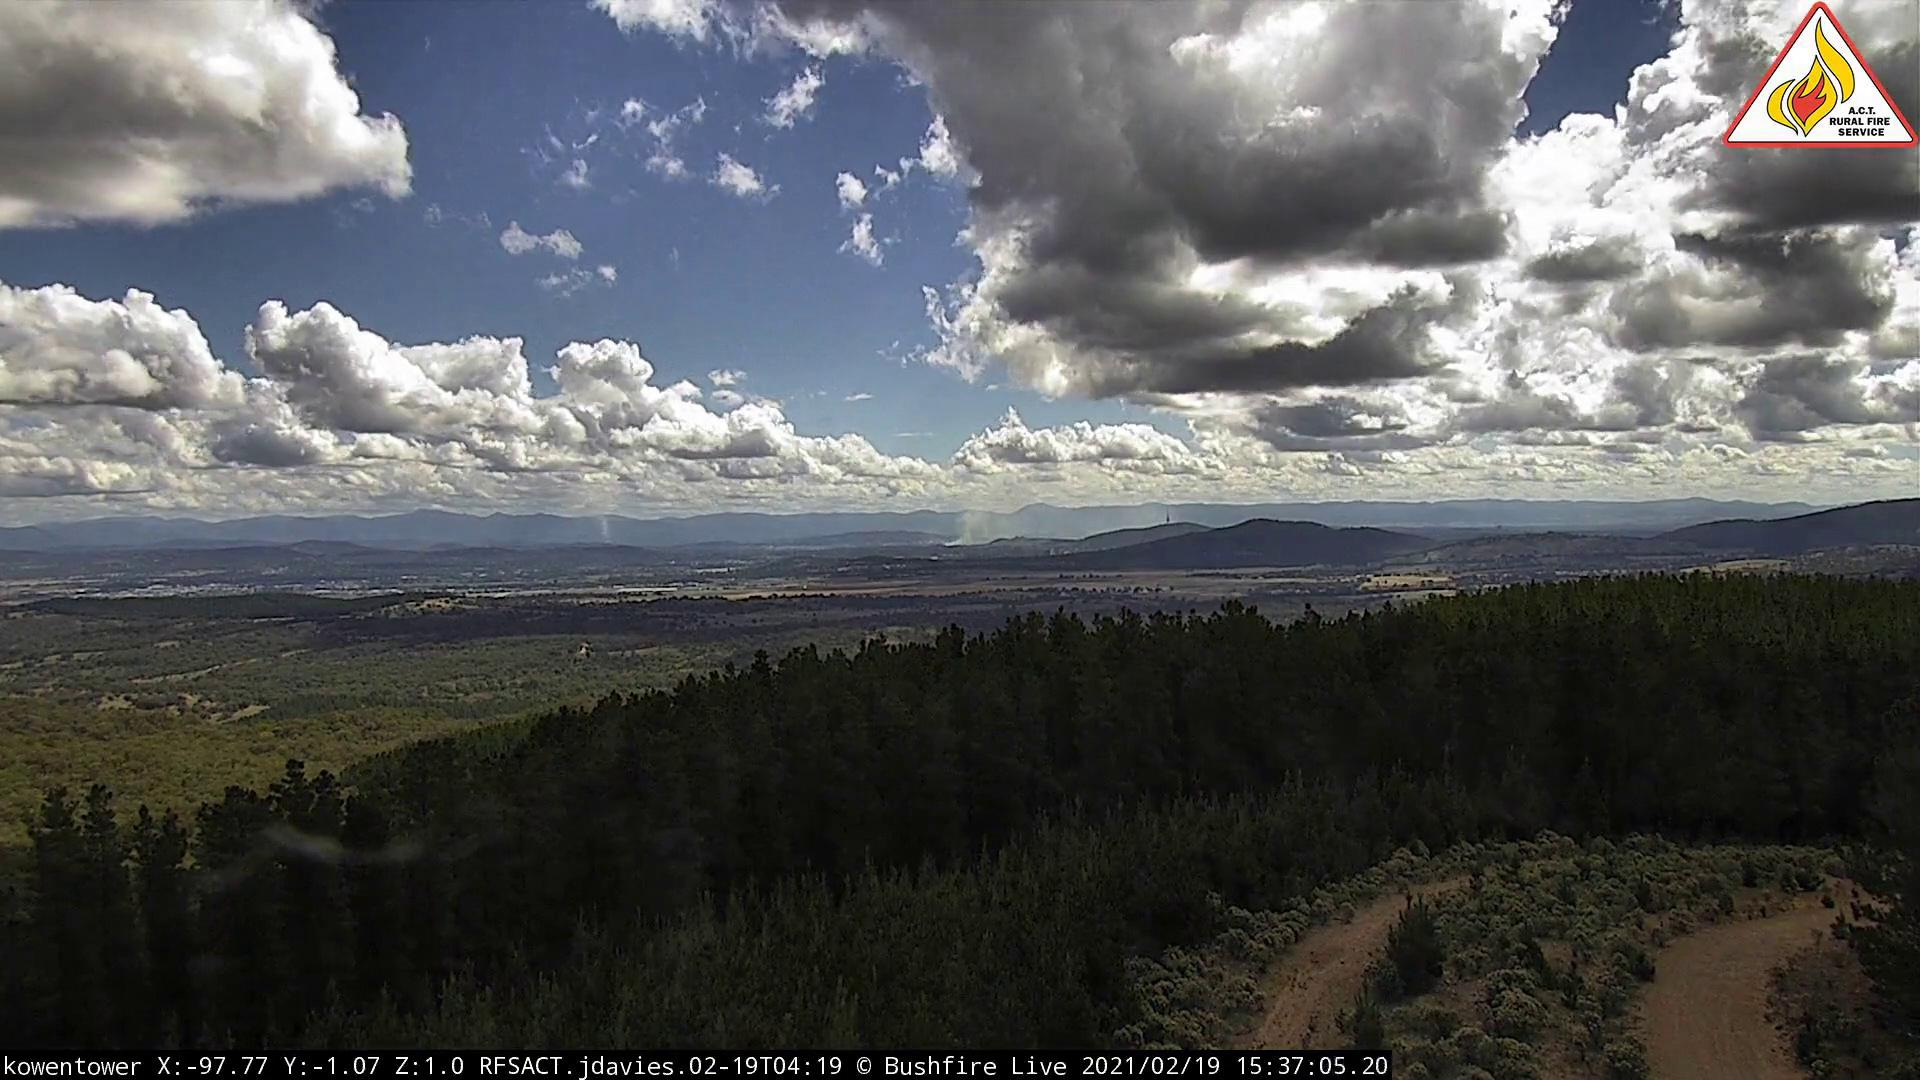Smoke: (945, 498, 1052, 554), (596, 526, 618, 553)
